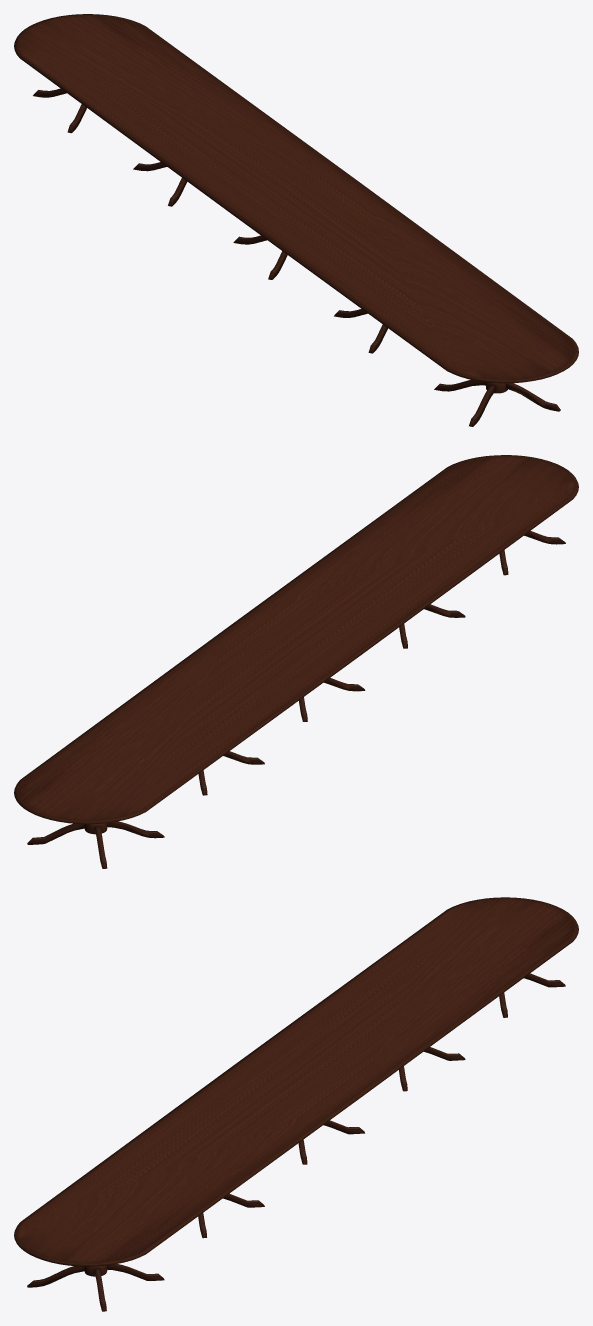
Rendered from banquet_table_12m.glb.
The picture shows the model from 3 angles, top to bottom: view 1: azimuth 30°, elevation 25°; view 2: azimuth 150°, elevation 25°; view 3: azimuth 330°, elevation 25°; orthographic projection.
Visible parts, largest first — view 1: Rounded end tabletop, Turned pedestal 5; view 2: Rounded end tabletop, Pedestal master; view 3: Rounded end tabletop, Turned pedestal 5.
Boxes of the visible parts, x1,y1,x2,y2 form: Rounded end tabletop: [14, 14, 578, 383]; Turned pedestal 5: [434, 379, 560, 426]; Rounded end tabletop: [14, 455, 578, 824]; Pedestal master: [27, 821, 164, 868]; Rounded end tabletop: [14, 897, 578, 1266]; Turned pedestal 5: [27, 1264, 164, 1311].
Bounding box in the file's own units: 1.8 × 0.7498 × 12.
Materials: 2 (2 with a texture image).
